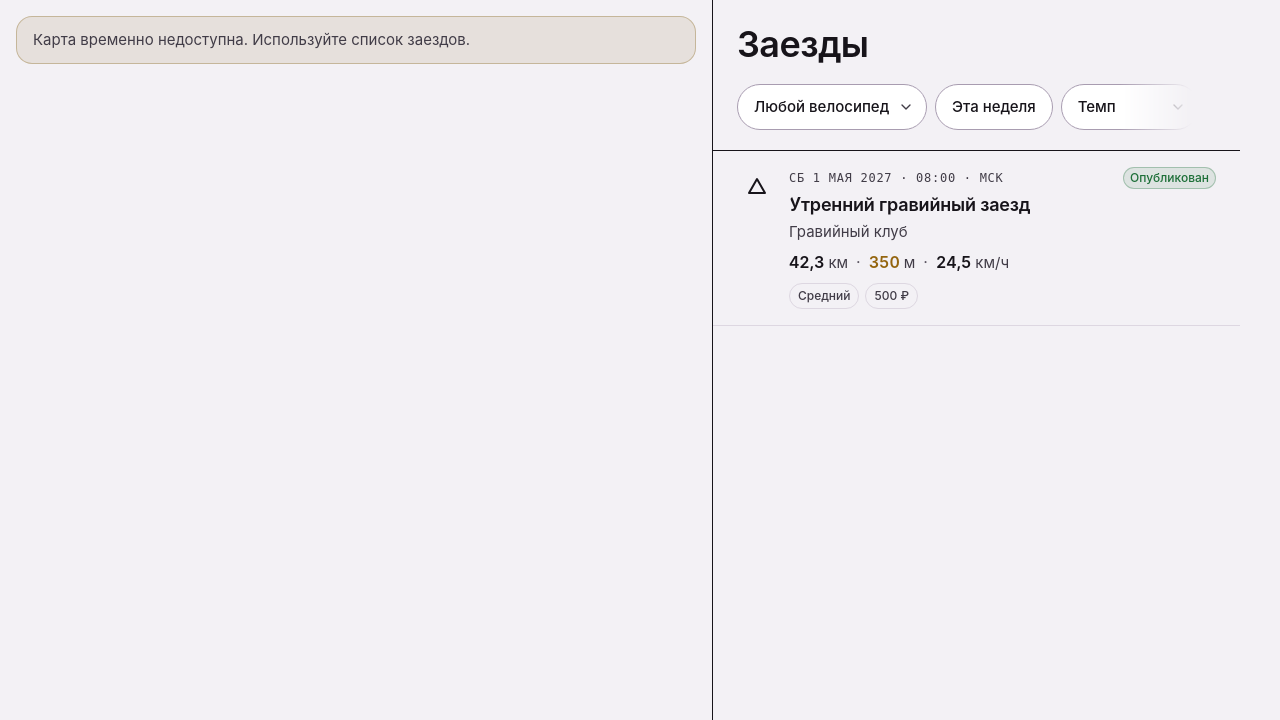
Test: DiscoveryList › shows a filtered empty state with a working reset action that restores the full list
Expected: the link "Утренний гравийный заезд" is shown, [789,194,1030,215]
Select "Шоссейный" in the 1st dropdown named "Тип велосипеда" at (832, 107), box [738,85,926,129]
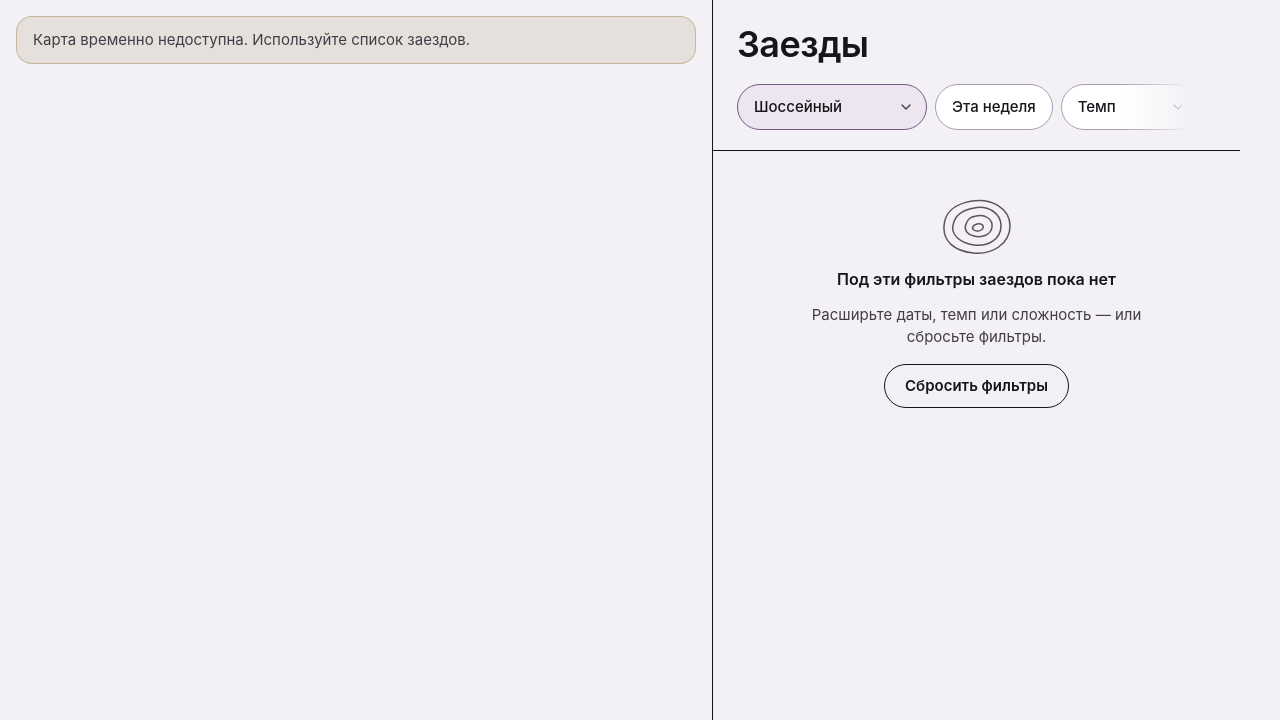
Expected: the text "Под эти фильтры заездов пока нет" is shown, [837,267,1116,292]
Click the button "Сбросить фильтры".
click(976, 386)  # box [884,364,1069,408]
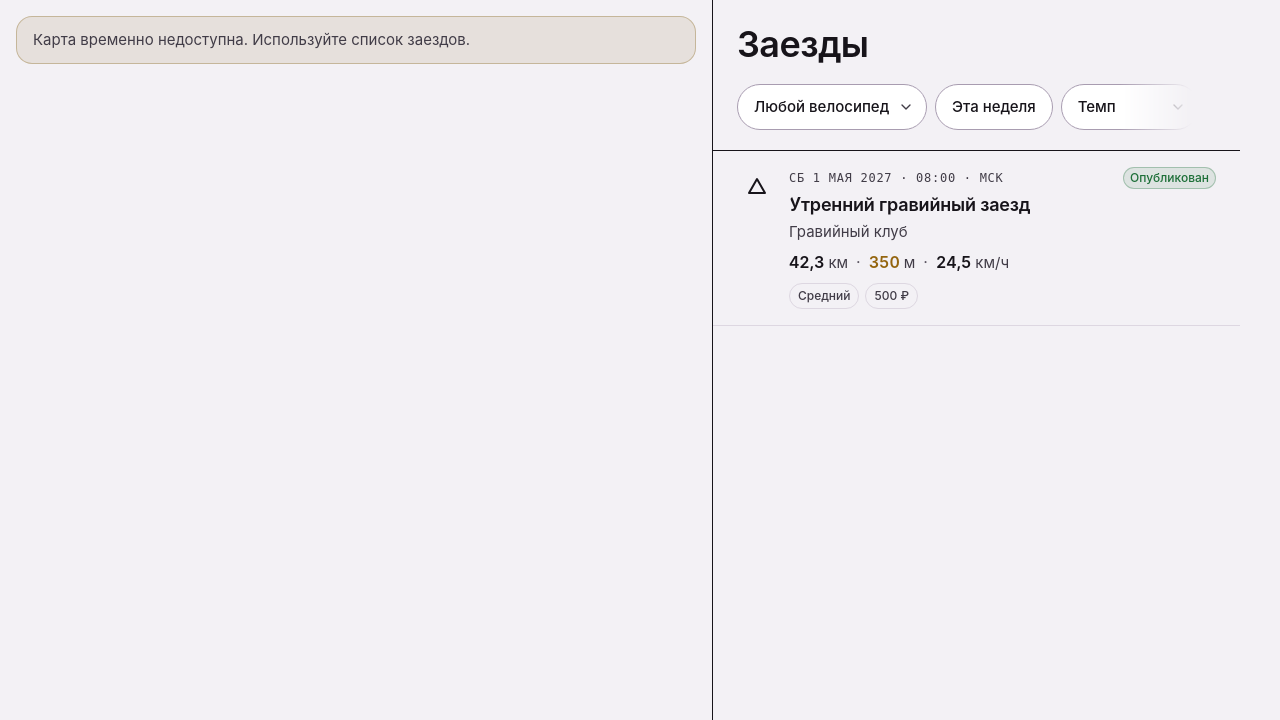
Expected: the link "Утренний гравийный заезд" is shown, [789,194,1030,215]
